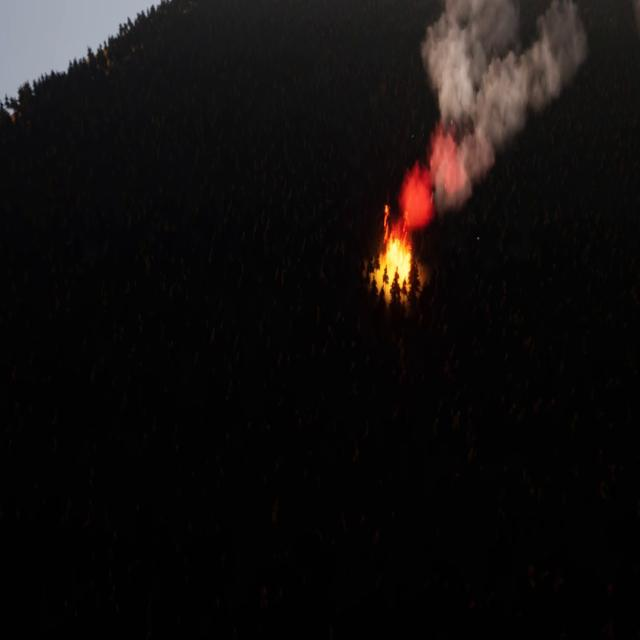fire: (379, 231, 416, 278)
smoke: (398, 0, 587, 231)
